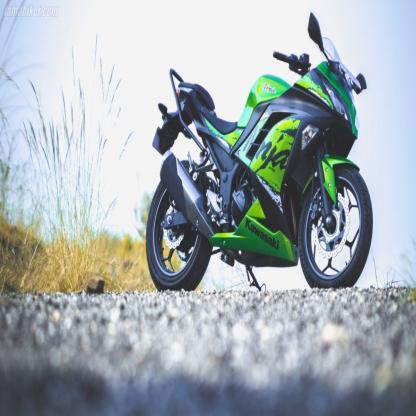Motorcycle: (145, 6, 377, 292)
